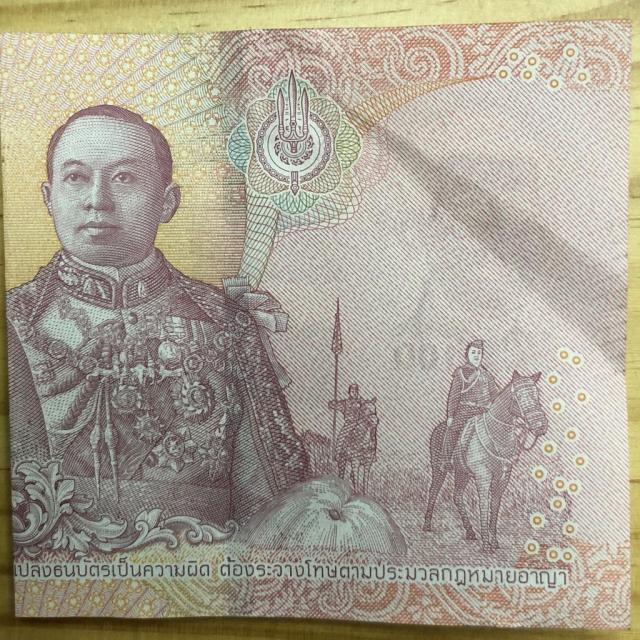THAI100: (0, 19, 631, 628)
